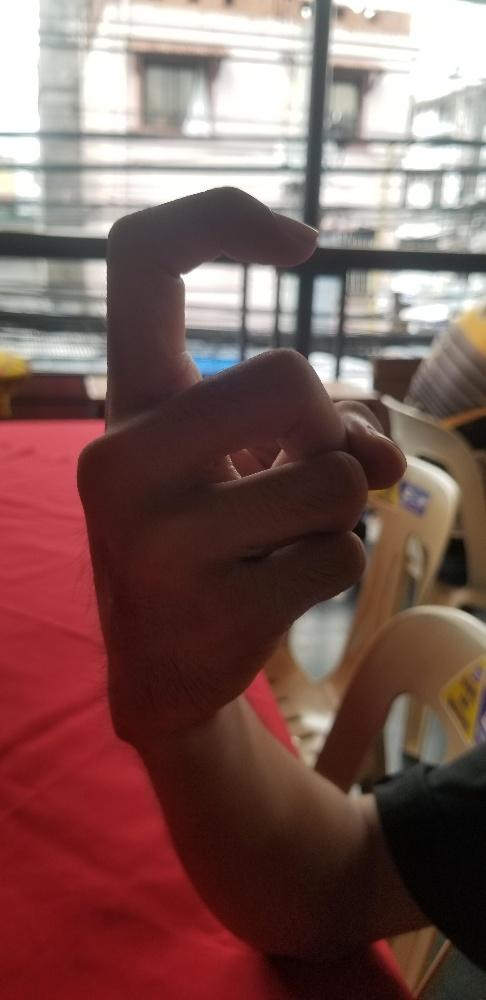x: (69, 185, 407, 709)
